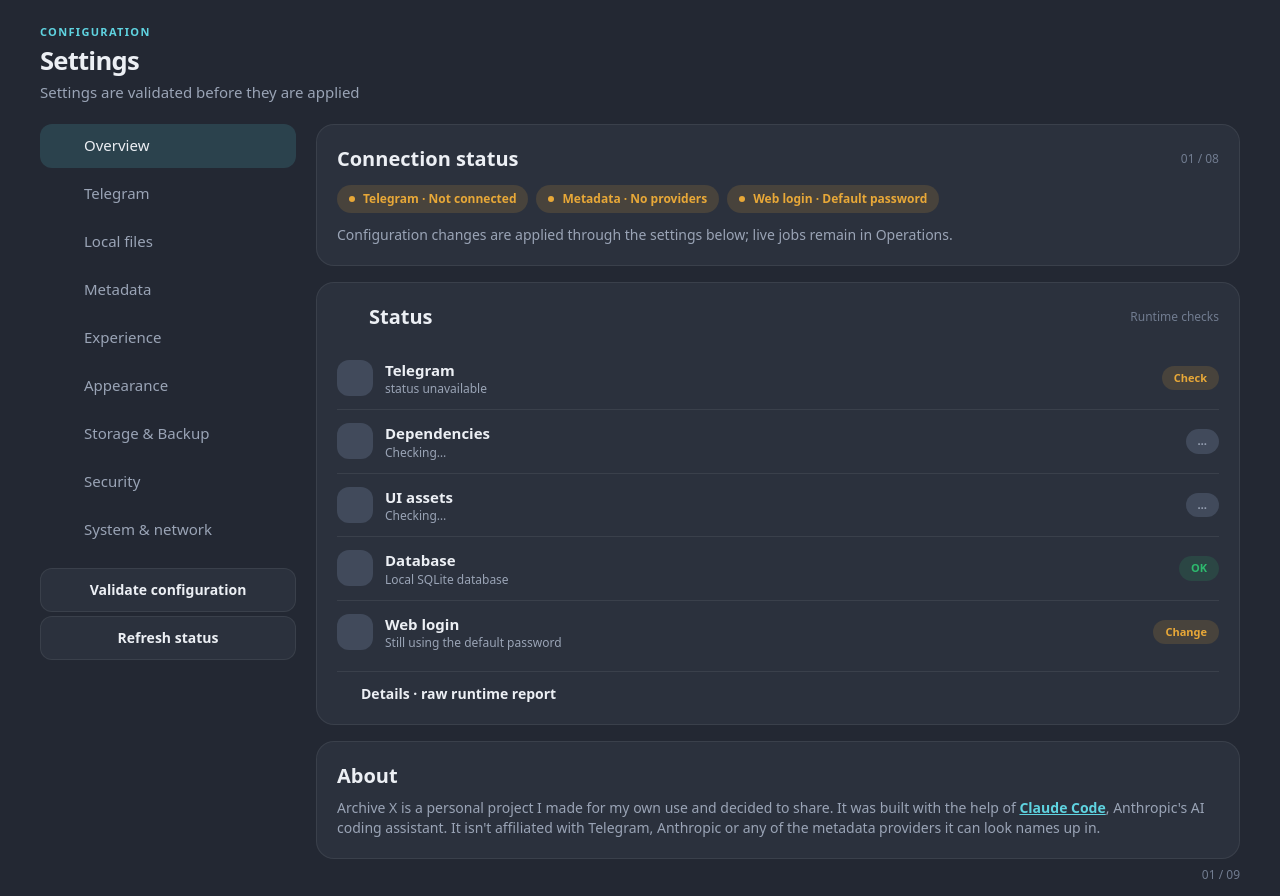
Test: Appearance › applies a theme at once, remembers it, and saves it to the server
Click the button "Appearance" at (168, 386), box [40,364,296,408]
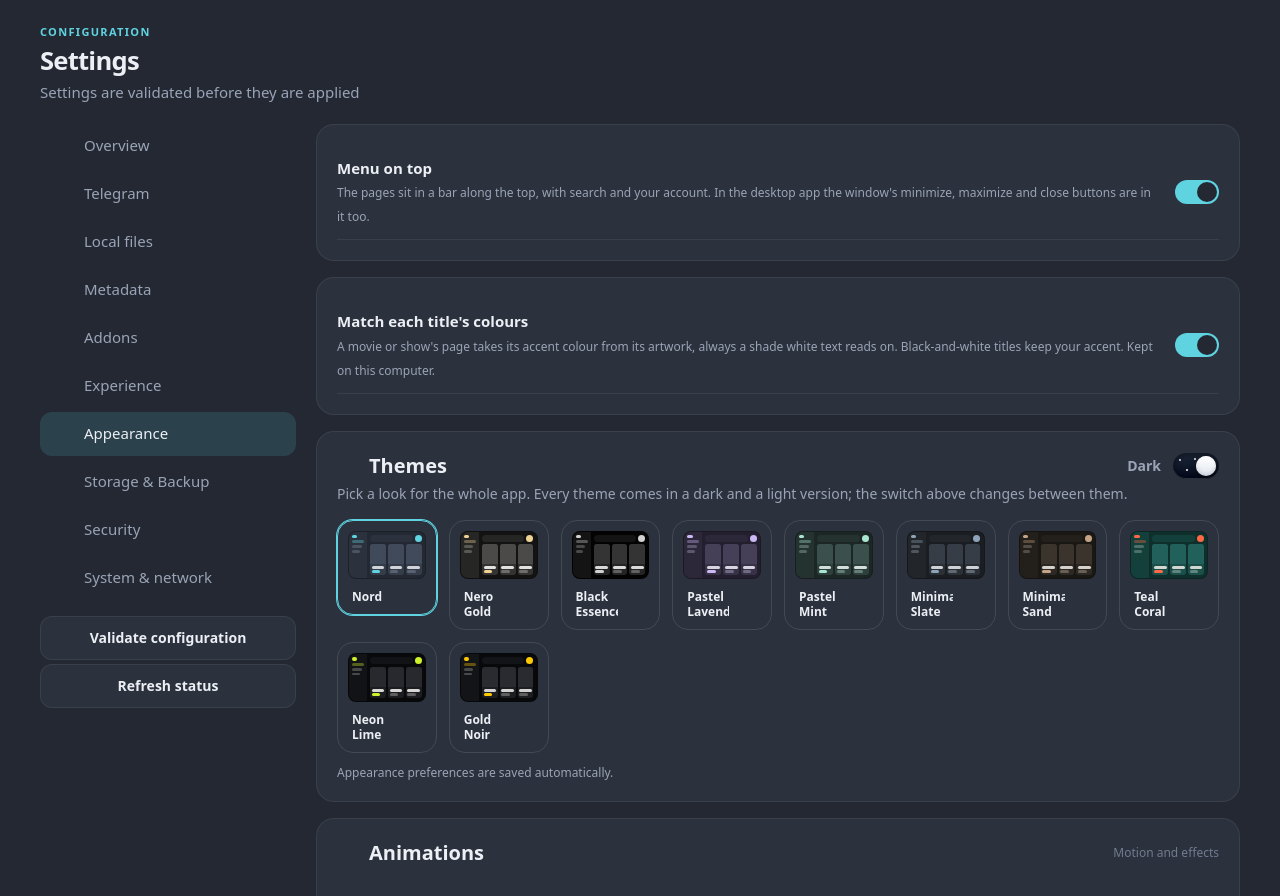
Click the button "Nero Gold" at (499, 575), box [449,520,549,630]
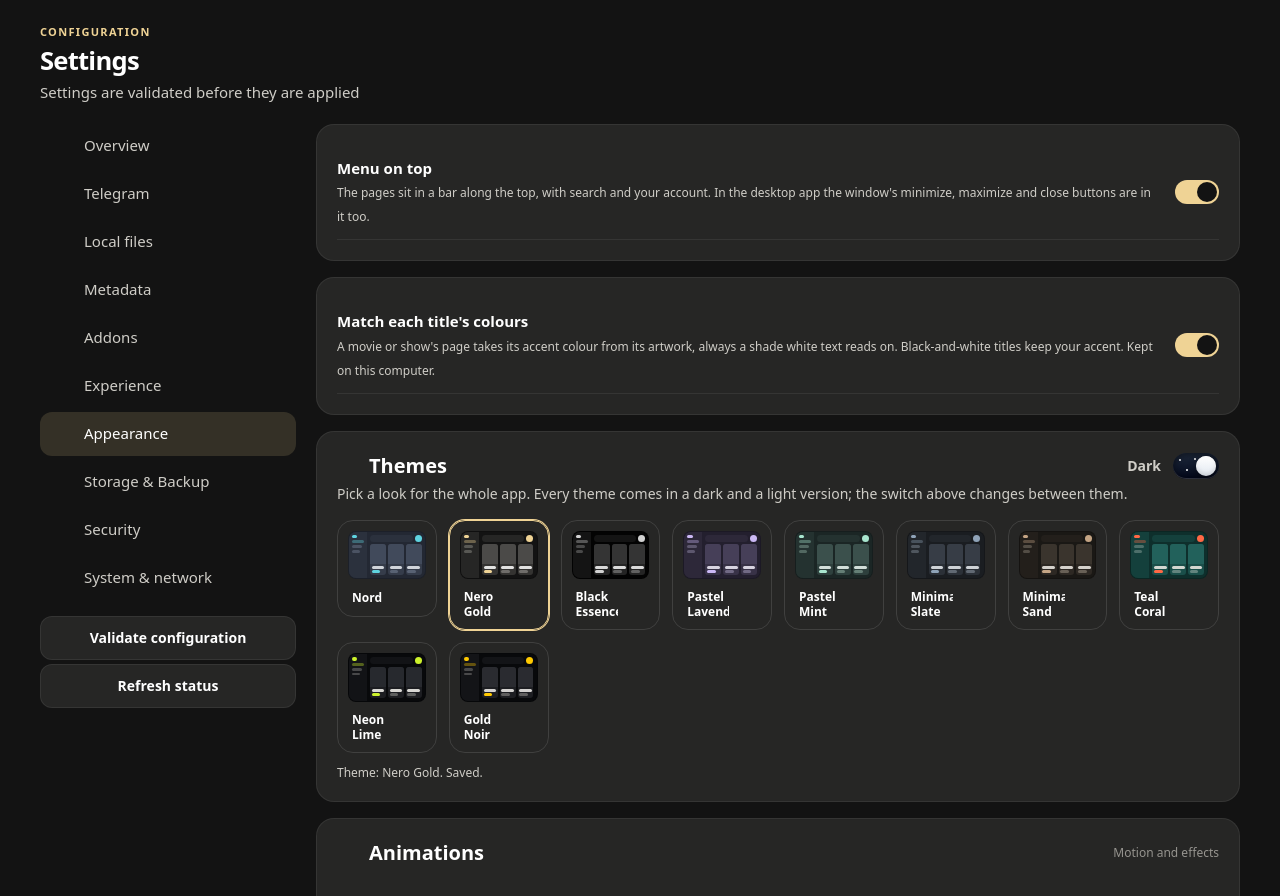
Check: the text "Theme: Nero Gold. Saved." is shown, box [337,764,483,781]
